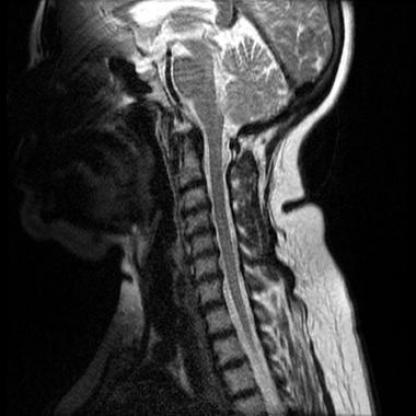Disc Protrusionrotation: (185, 248, 221, 264), (189, 271, 223, 287), (179, 204, 210, 220), (182, 226, 215, 241)
Osteophytesrotation: (185, 248, 221, 264), (189, 270, 223, 286), (182, 226, 214, 241), (179, 204, 210, 219)
